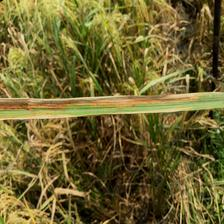2 BacterialBlight: (8, 91, 204, 115)
